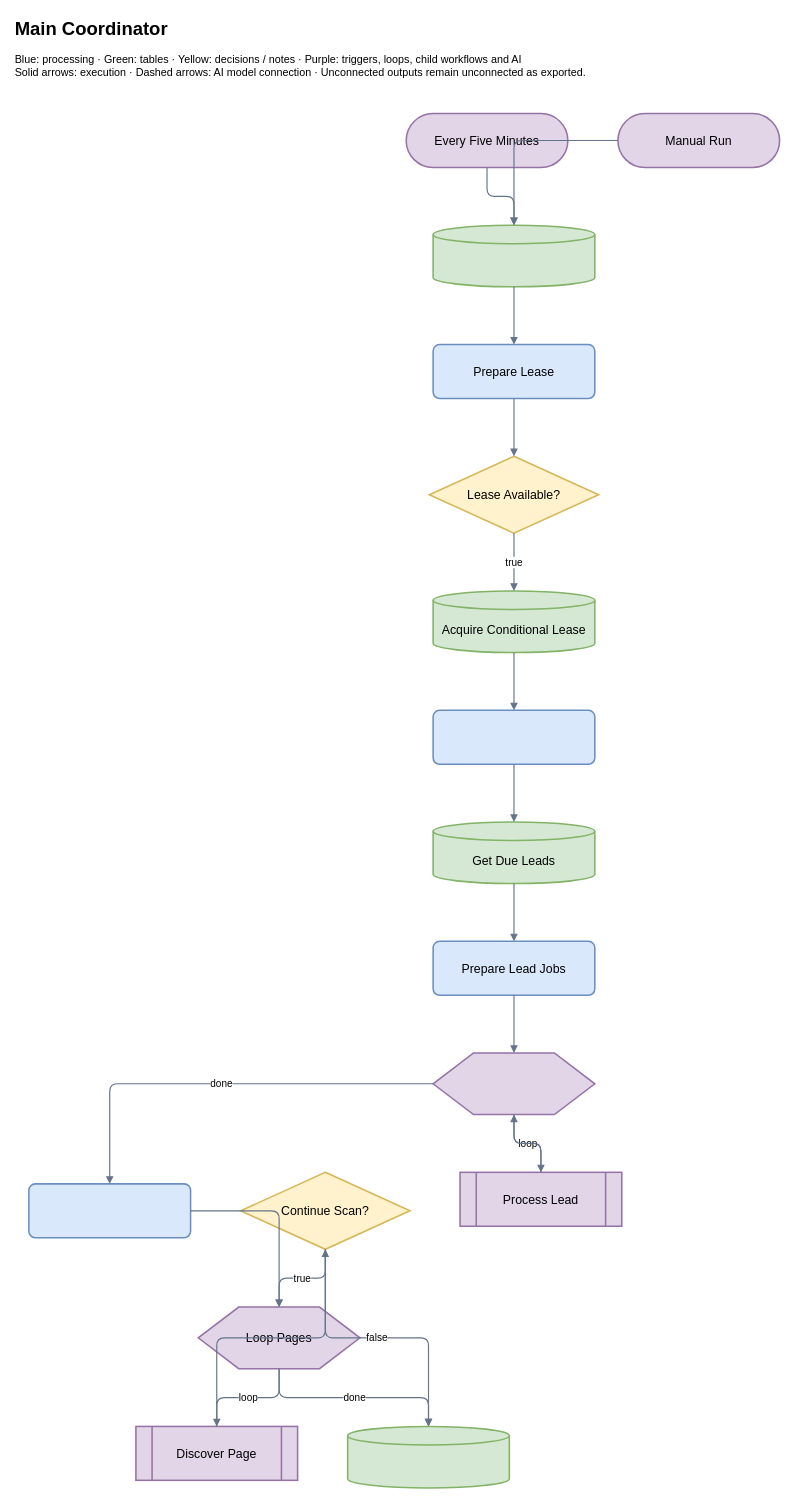
The diagram is 808 pixels wide and 1502 high, and some of its shapes have lost their labels. The shapes that lost their labels are listed below. From the top down, each one's centre as x and y in pixels, then its label:
(x=513, y=255): Read Control
(x=513, y=737): Cycle Context
(x=513, y=1083): Loop Leads
(x=109, y=1210): Prepare Page Slots
(x=428, y=1456): Release Lease
